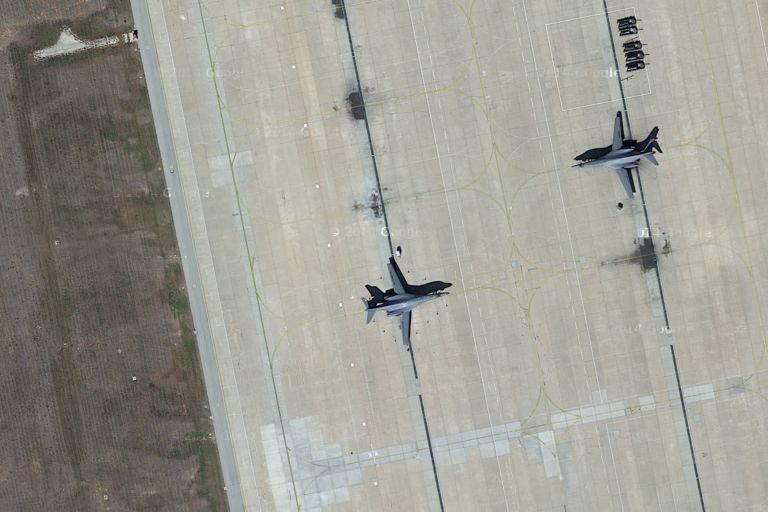B-1B: (353, 257, 455, 346), (566, 109, 665, 199)
